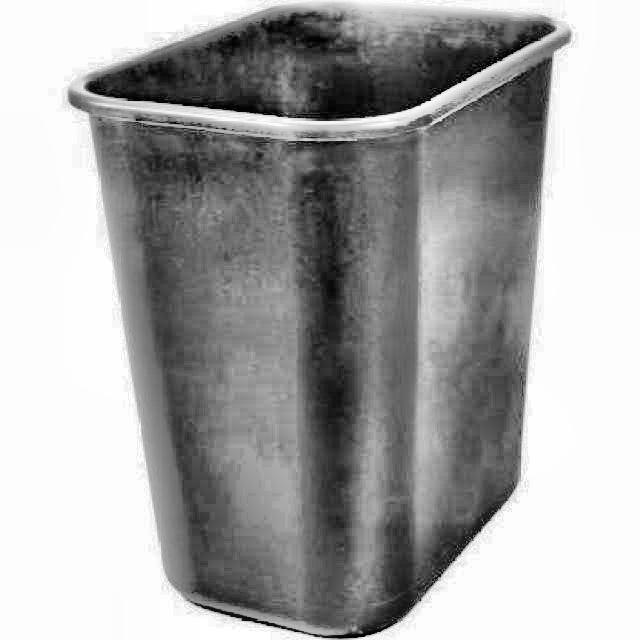Dustbin: (67, 2, 596, 640)
